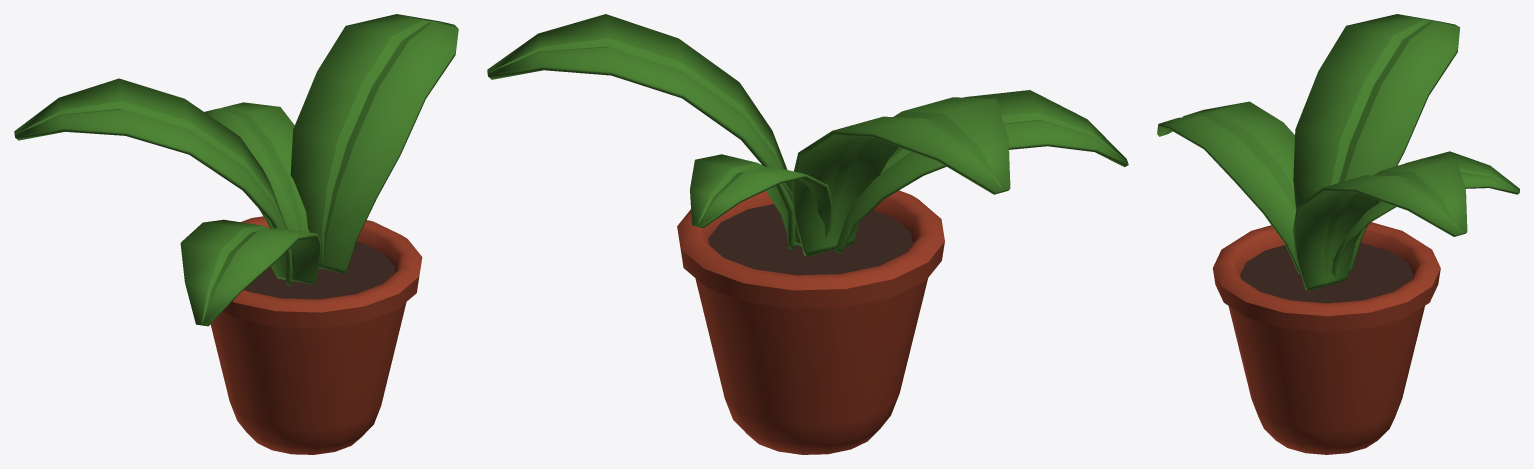
Rendered from smallplant.glb.
3 renders of one model, left to right at view 1: azimuth 30°, elevation 25°; view 2: azimuth 150°, elevation 25°; view 3: azimuth 270°, elevation 25°, orthographic. The views are drawn at different scales.
Parts seen in each view (by area): view 1: Vert.002; view 2: Vert.002; view 3: Vert.002.
Part boxes in pixels (<box>): Vert.002: <box>14,14,458,454</box>; Vert.002: <box>487,14,1128,454</box>; Vert.002: <box>1157,14,1519,454</box>.
Bounding box in the file's own units: 0.4386 × 0.3179 × 0.3167.
